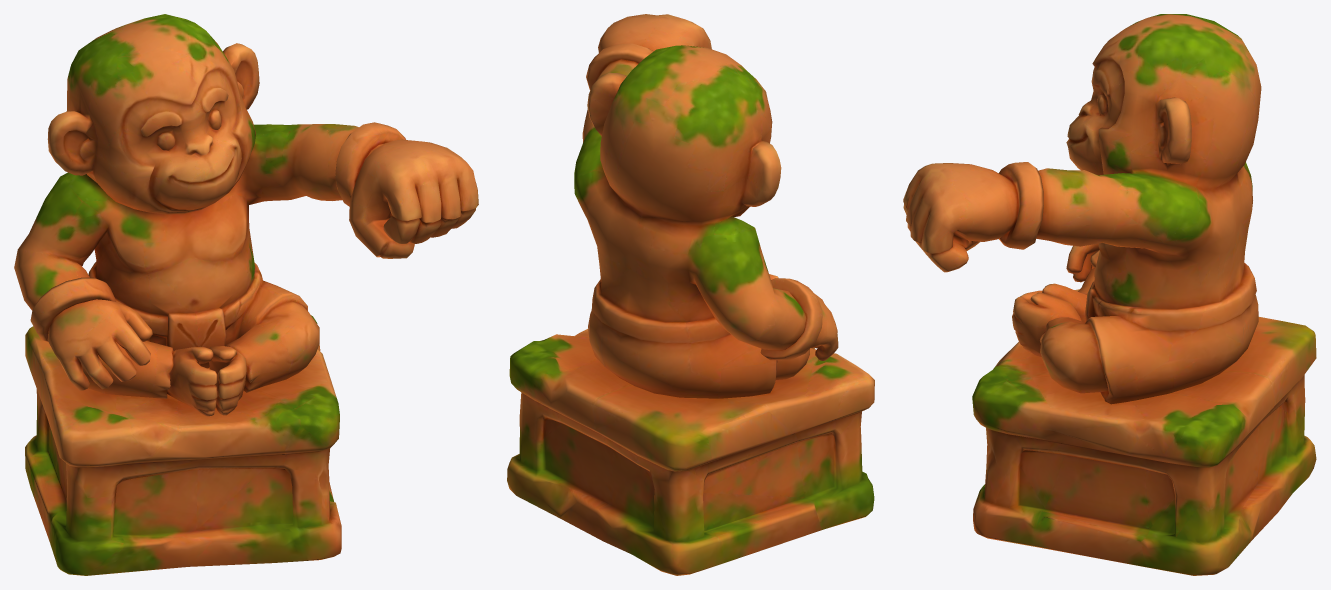
Rendered from monkey_statue.glb.
The picture shows the model from 3 angles, left to right: view 1: azimuth 30°, elevation 25°; view 2: azimuth 150°, elevation 25°; view 3: azimuth 270°, elevation 25°; orthographic projection. The views are drawn at different scales.
Visible parts, largest first — view 1: geometry_0; view 2: geometry_0; view 3: geometry_0.
Part boxes in pixels (x1=…): geometry_0: x1=14, y1=14, x2=478, y2=575; geometry_0: x1=507, y1=14, x2=874, y2=575; geometry_0: x1=903, y1=14, x2=1316, y2=575.
Bounding box in the file's own units: 0.7129 × 0.9526 × 0.7515.
Materials: 1 (1 with a texture image).
